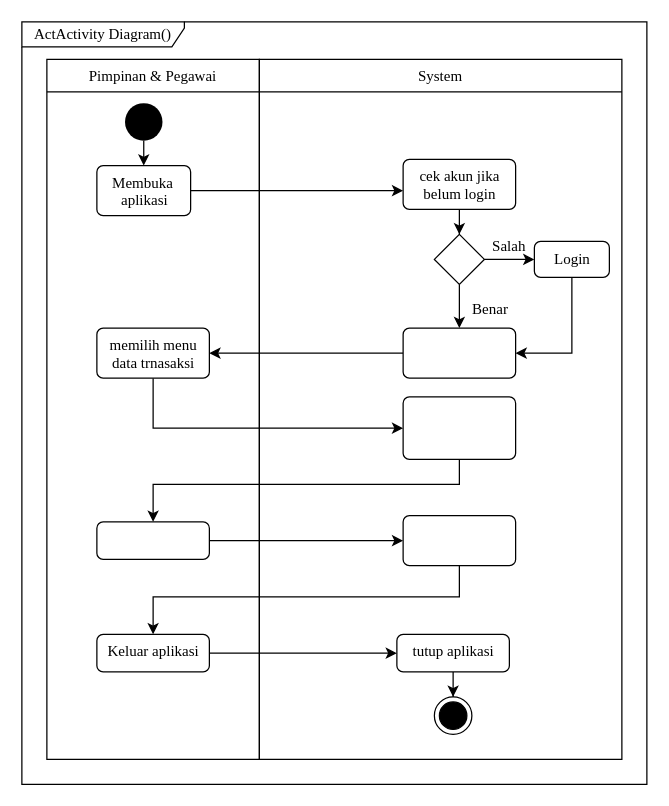
Image size: 669x806. Some labels were removed from this diagram. The shapes that lost their labels are listed below. From the top down, each one's centre as x and y in pixels, then its label:
At pixel 459 352: "Menampilkan menu utama".
At pixel 459 427: "Menampilkan menu data transaksi".
At pixel 152 540: "Memfillter data".
At pixel 459 540: "Tampil hasil fillter".
